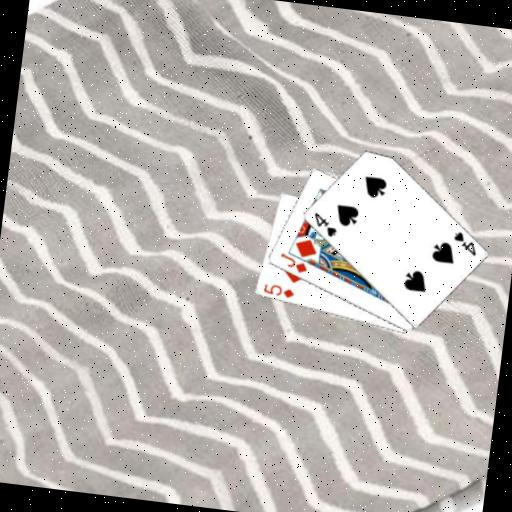4S: (309, 209, 341, 239), (448, 228, 480, 258)
5D: (260, 280, 297, 301)
JD: (276, 250, 310, 276)
